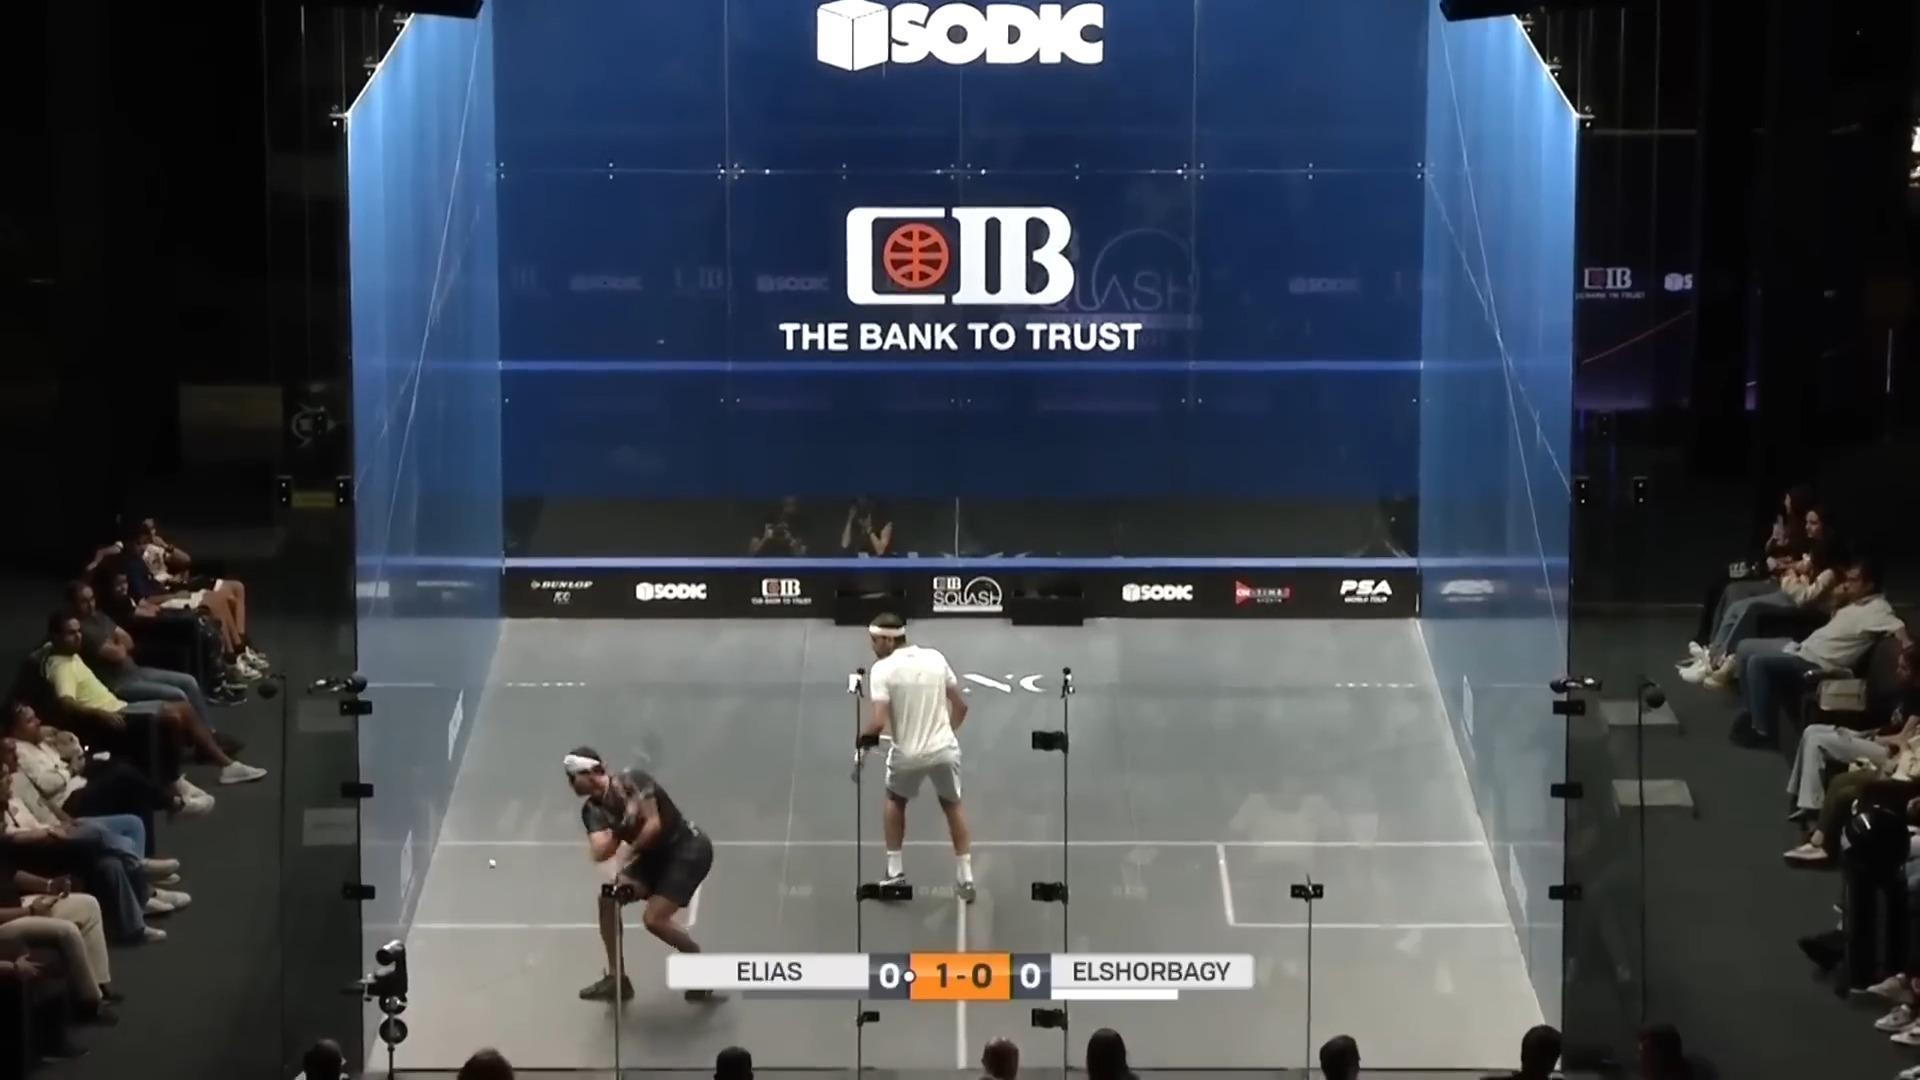Squash-Ball: (484, 852, 504, 873)
